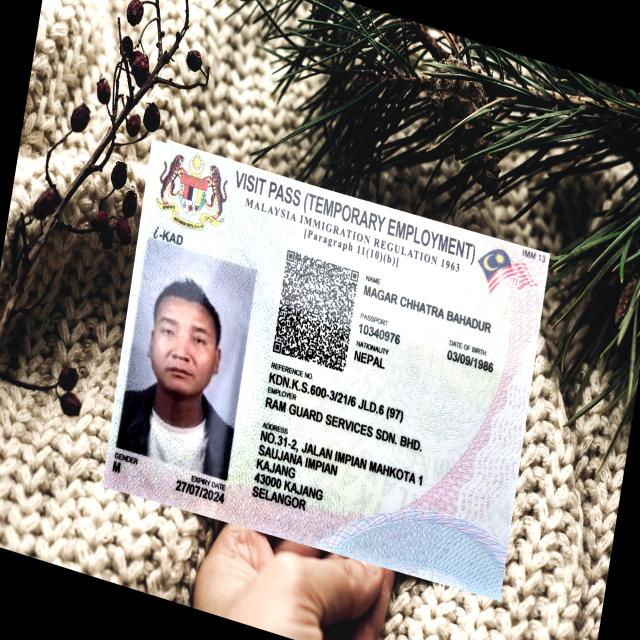ikad-temp: (102, 137, 551, 601)
